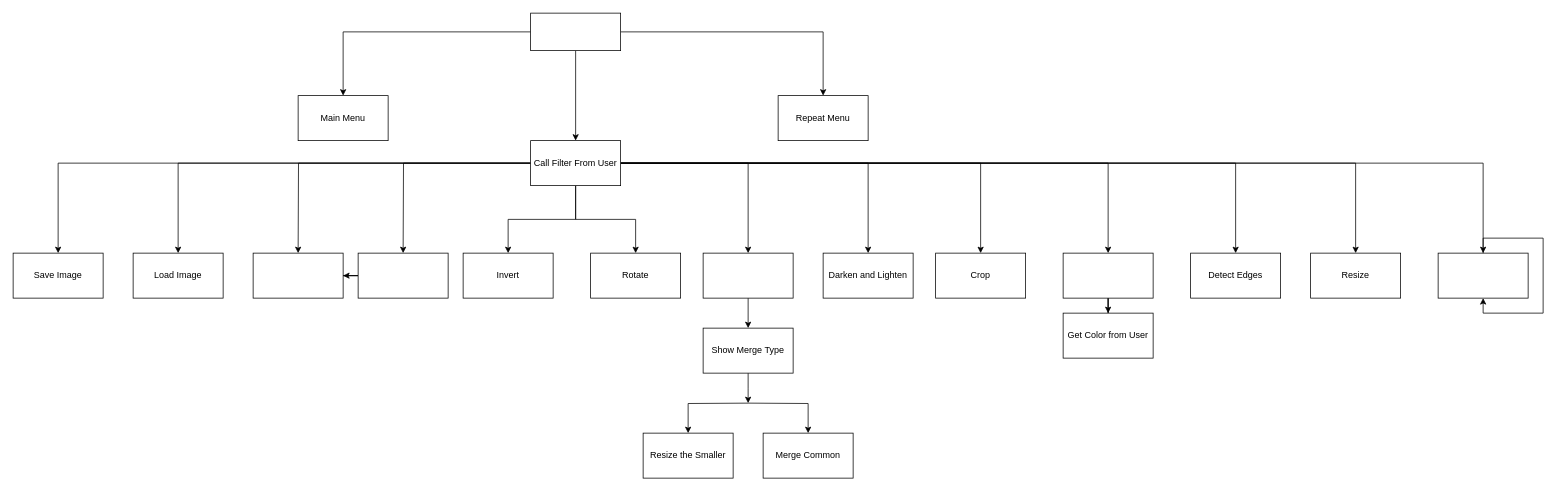
Some shapes in this 1562 by 491 pixel diagram are drawn without their labels. Each missing label, with the box of its shape:
Add Frame: (1062, 252, 1153, 298)
Black and White: (357, 252, 448, 298)
Blur: (1437, 252, 1528, 298)
Gray Scale: (252, 252, 343, 298)
Main: (530, 12, 621, 51)
Merge: (702, 252, 793, 298)
